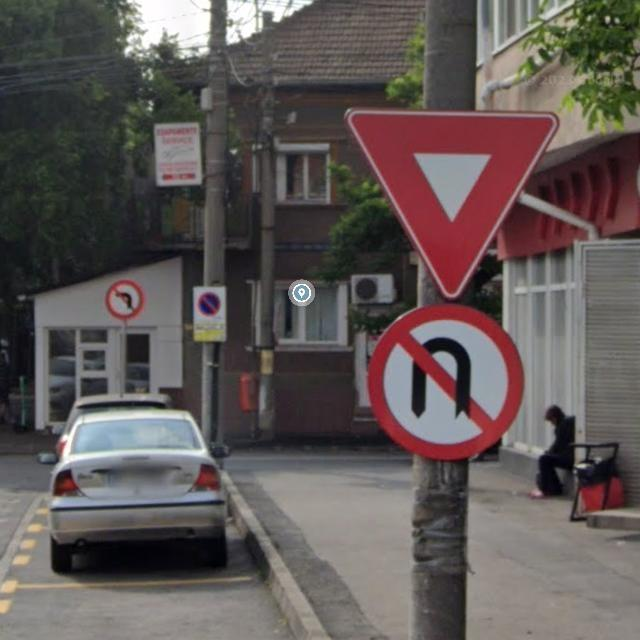prio_give_way: (344, 107, 559, 301)
